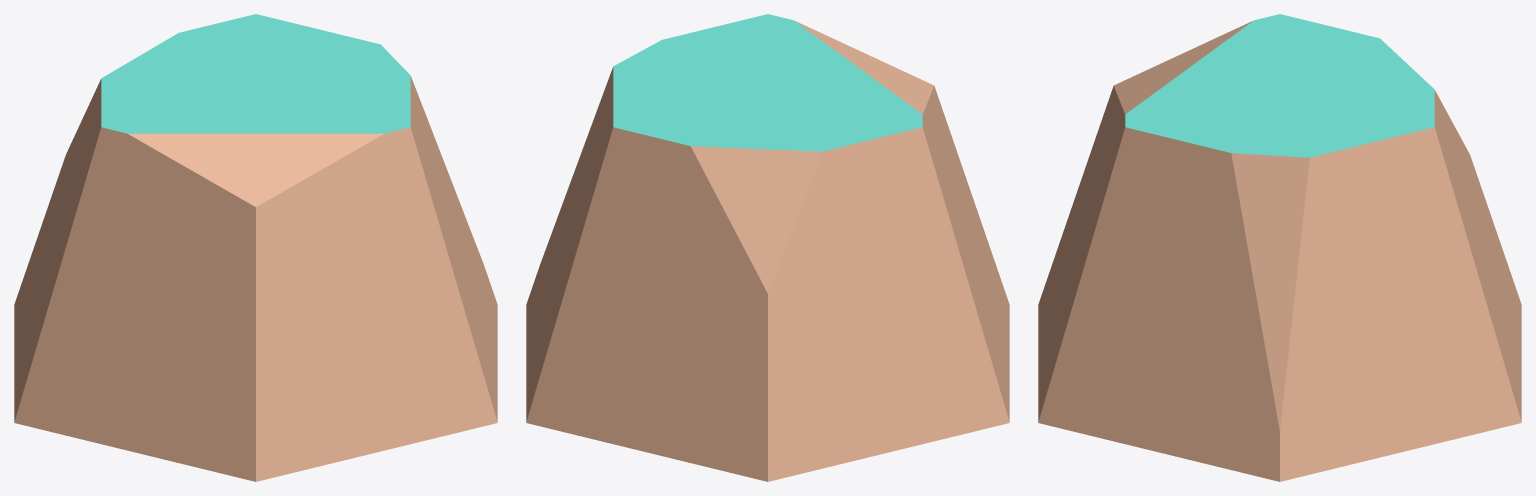
File: rock-smalld.glb
3 renders of one model, left to right at view 1: azimuth 30°, elevation 25°; view 2: azimuth 150°, elevation 25°; view 3: azimuth 270°, elevation 25°, orthographic.
Visible parts, largest first — view 1: rock_smallD; view 2: rock_smallD; view 3: rock_smallD.
Part boxes in pixels (left/top/right/bottom): rock_smallD: left=14, top=14, right=497, bottom=481; rock_smallD: left=526, top=14, right=1009, bottom=481; rock_smallD: left=1038, top=14, right=1521, bottom=481.
Size of the model in its own units: 0.4257 by 0.2309 by 0.3687.
